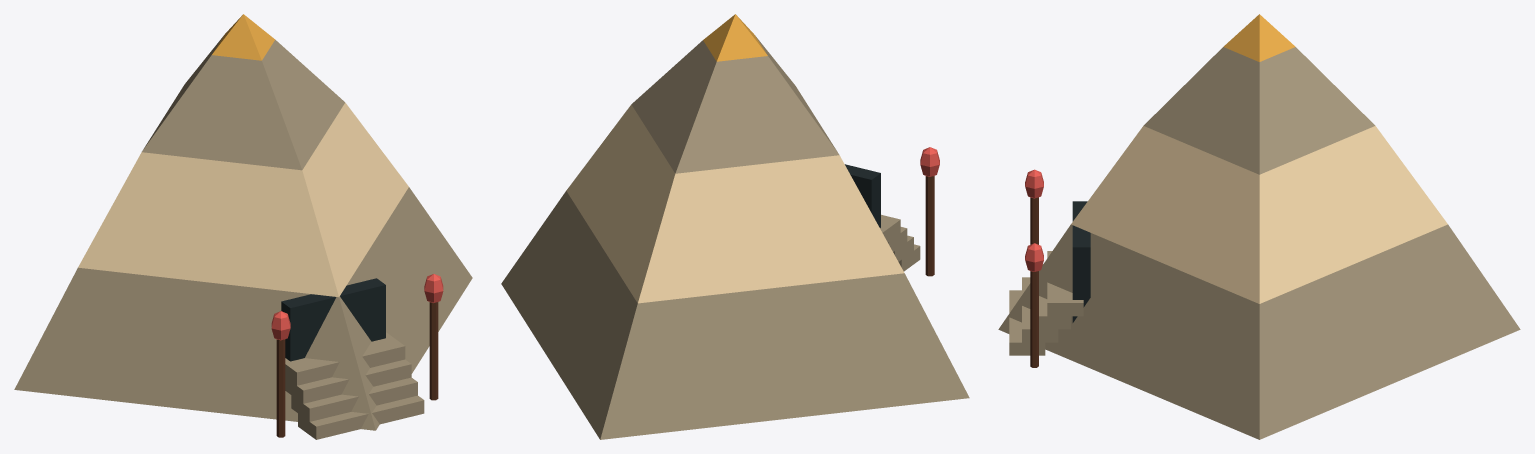
The model's file is ParkParkPyramid.obj.
3 renders of one model, left to right at view 1: azimuth 30°, elevation 25°; view 2: azimuth 150°, elevation 25°; view 3: azimuth 270°, elevation 25°, orthographic. The views are drawn at different scales.
Parts seen in each view (by area): view 1: ParkParkPyramid; view 2: ParkParkPyramid; view 3: ParkParkPyramid.
Part boxes in pixels (x1,y1,x2,y2): ParkParkPyramid: (14, 14, 472, 439); ParkParkPyramid: (501, 14, 969, 439); ParkParkPyramid: (998, 14, 1520, 439).
Bounding box in the file's own units: 14.4 × 9.6 × 14.4.
